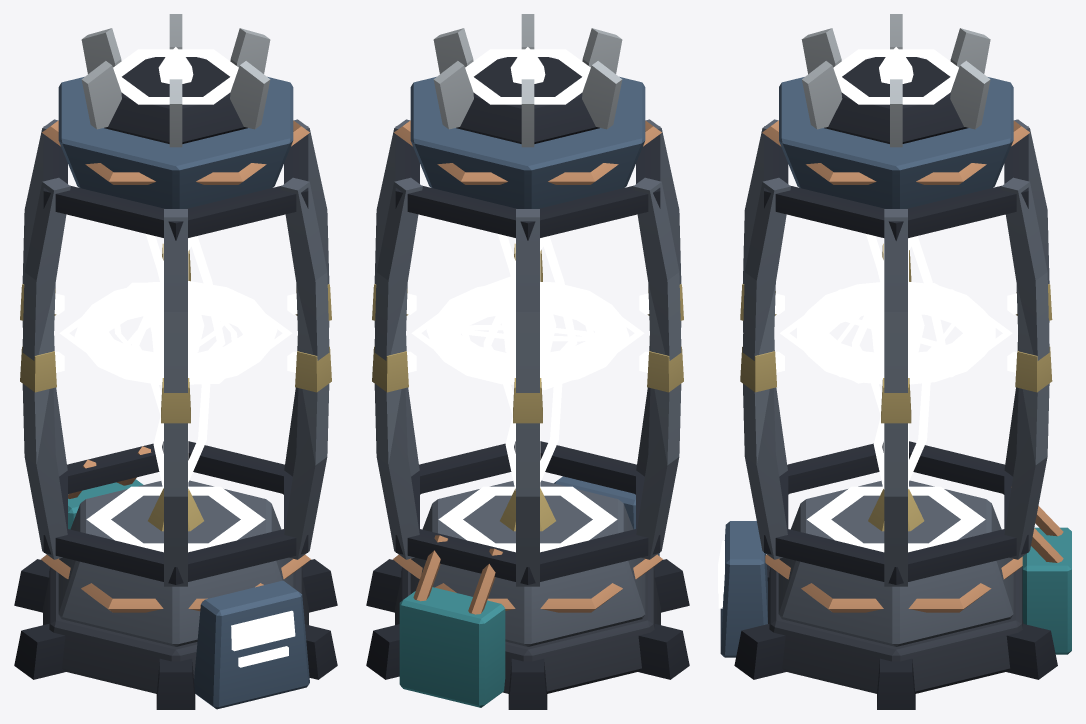
File: power-core.glb
3 views of the same model, side by side, from view 1: azimuth 30°, elevation 25°; view 2: azimuth 150°, elevation 25°; view 3: azimuth 270°, elevation 25° (orthographic).
Visible parts, largest first — view 1: Body, Signal; view 2: Body, Signal; view 3: Body, Signal.
Boxes of the visible parts, x1,y1,x2,y2 form: Body: [14, 14, 337, 709]; Signal: [54, 47, 297, 667]; Body: [366, 14, 689, 709]; Signal: [406, 47, 649, 552]; Body: [720, 14, 1071, 709]; Signal: [718, 47, 1017, 608].
Bounding box in the file's own units: 1 × 1.85 × 1.01.
